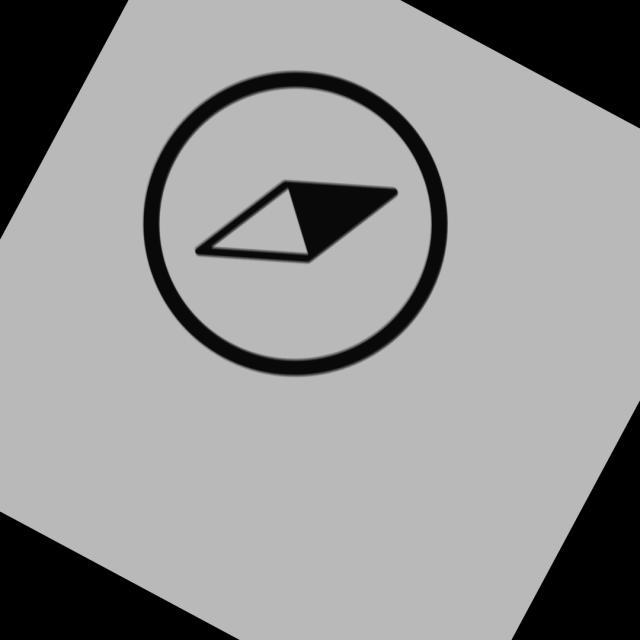compass: (140, 68, 454, 385)
